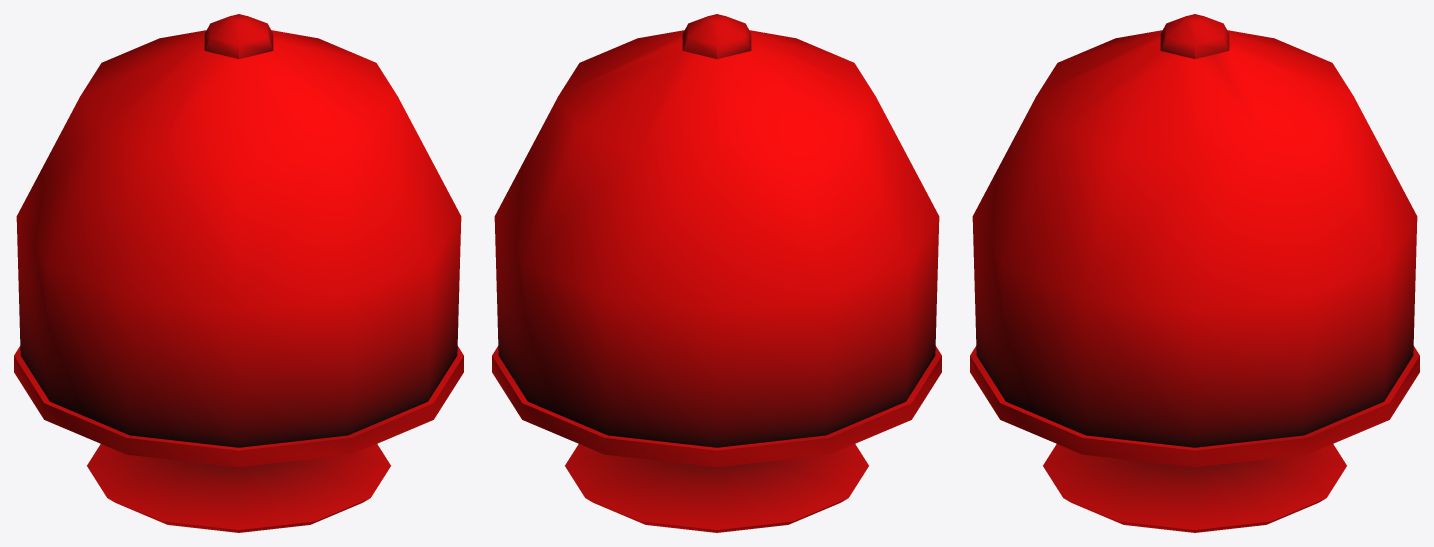
Rendered from CI_Cafe_CakeDome.fbx.
3 views of the same model, side by side, from view 1: azimuth 30°, elevation 25°; view 2: azimuth 150°, elevation 25°; view 3: azimuth 270°, elevation 25° (orthographic).
Visible parts, largest first — view 1: CI_Cafe_CakeDome; view 2: CI_Cafe_CakeDome; view 3: CI_Cafe_CakeDome.
Boxes of the visible parts, bbox=[...] form: CI_Cafe_CakeDome: bbox=[14, 14, 463, 532]; CI_Cafe_CakeDome: bbox=[492, 14, 941, 532]; CI_Cafe_CakeDome: bbox=[970, 14, 1419, 532].
Bounding box in the file's own units: 0.34 × 0.385 × 0.34.
